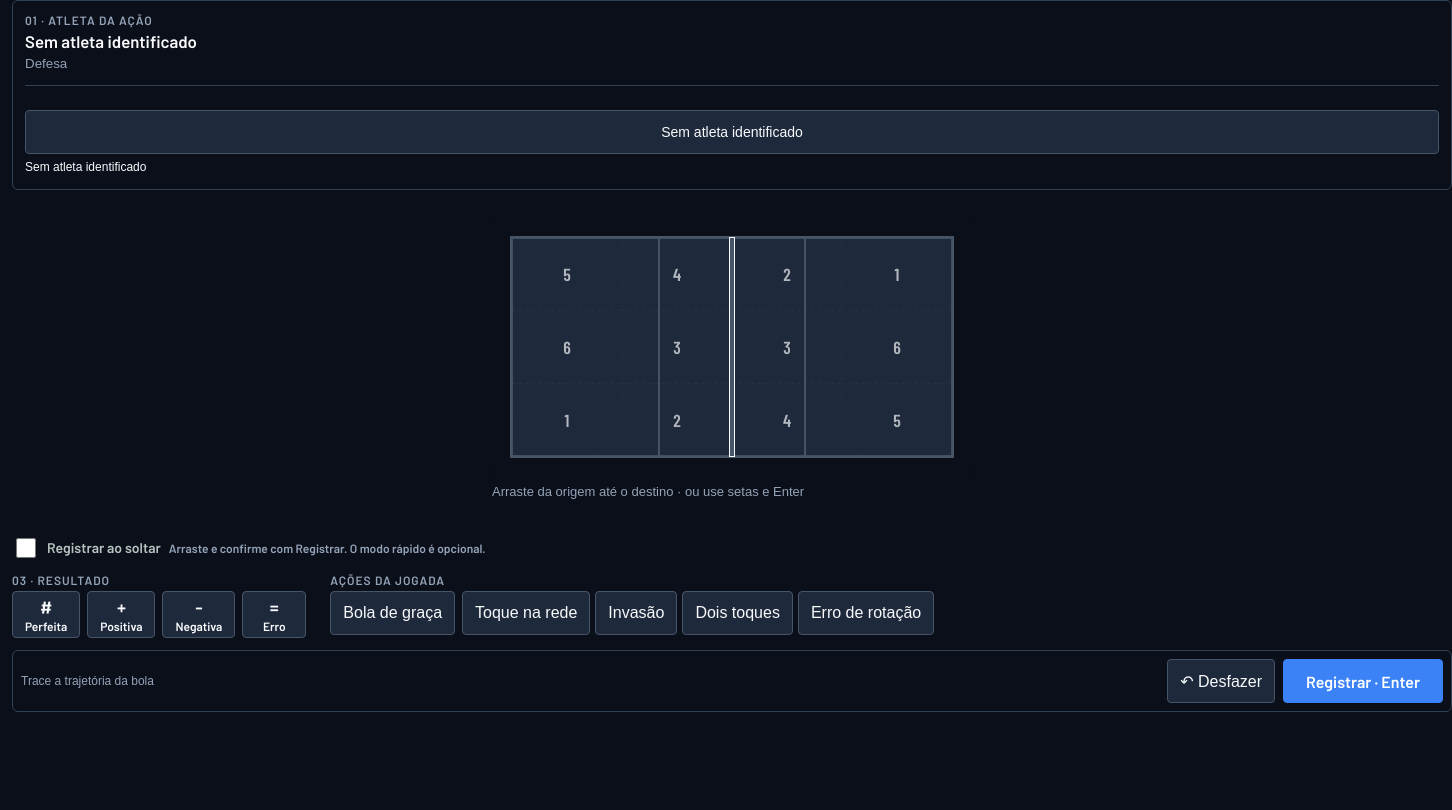
it: GestureScout › highlights a selected secondary quick action
Click the button "Toque na rede" at (526, 613), box [462, 591, 590, 635]
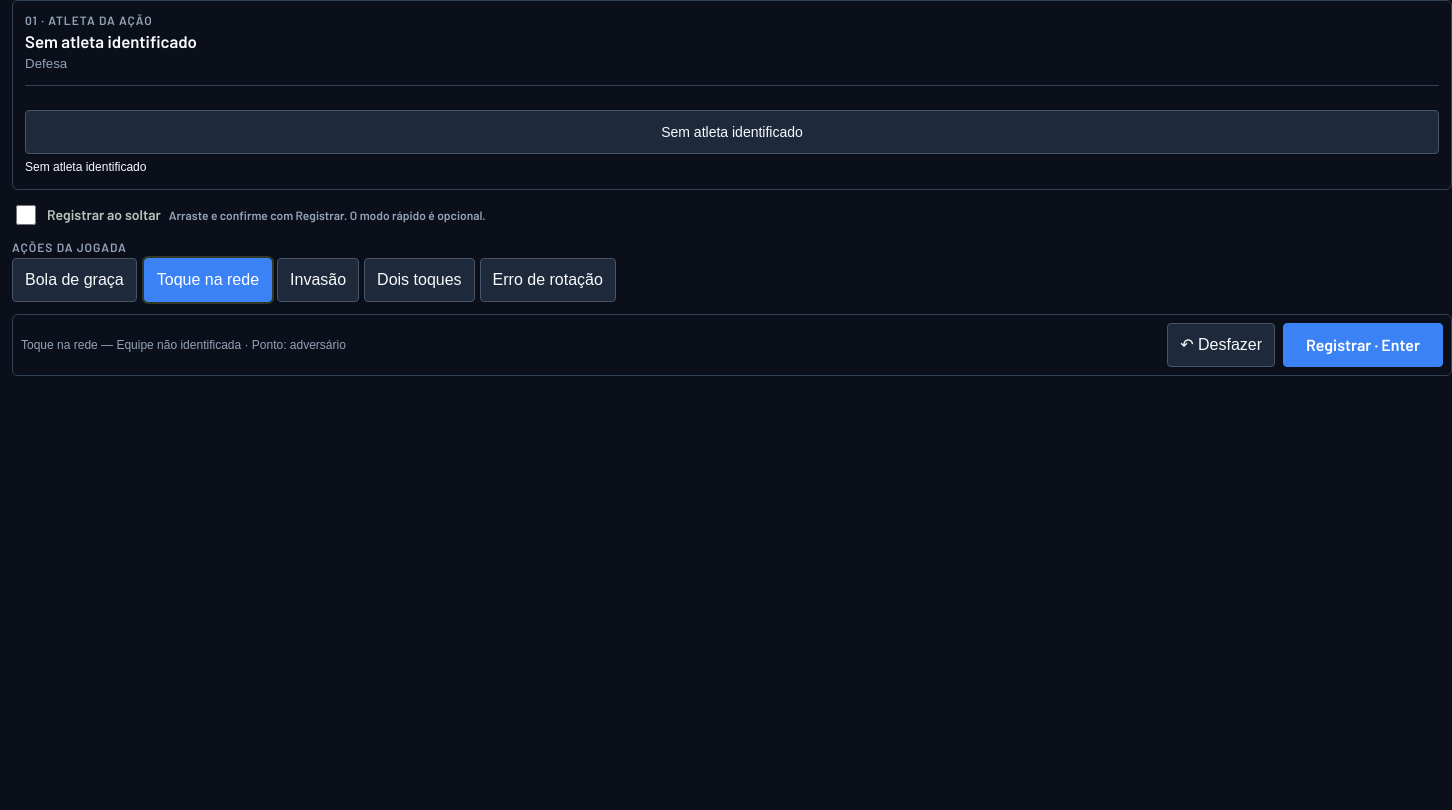
expect the element named "Infrações" is shown: met, box [144, 258, 616, 302]
expect the text "Toque na rede — Equipe não identificada · Ponto: adversário" is shown: met, box [21, 338, 346, 352]
